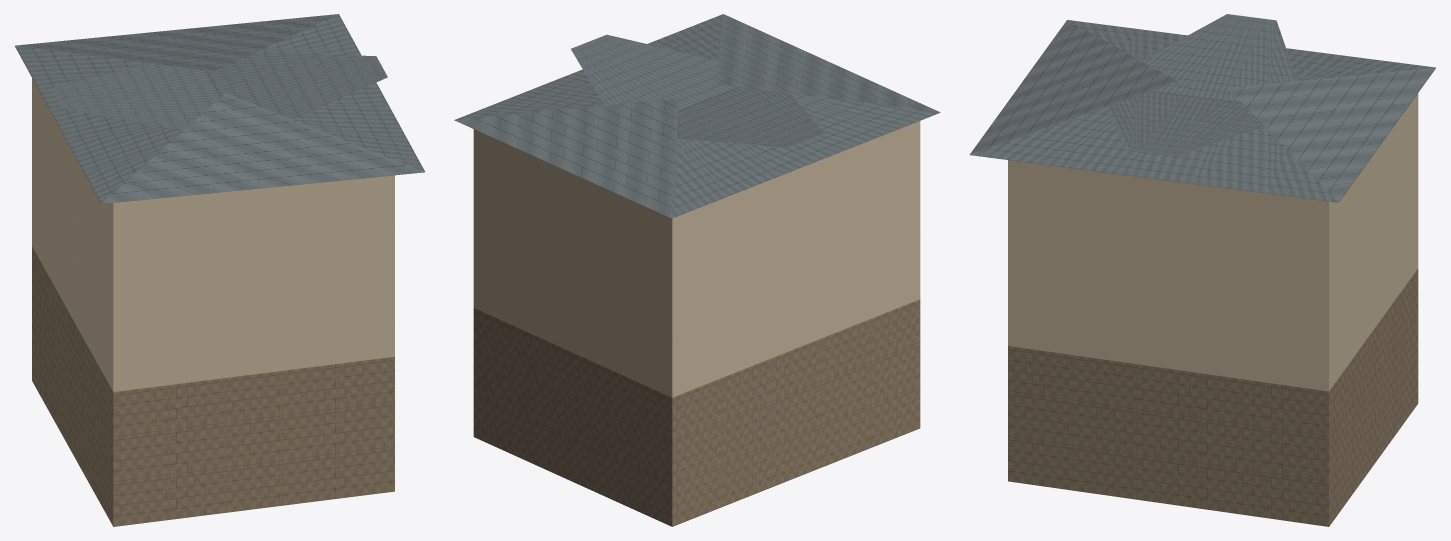
File: bld_c30_-39_472.gltf
3 views of the same model, side by side, from view 1: azimuth 30°, elevation 25°; view 2: azimuth 150°, elevation 25°; view 3: azimuth 270°, elevation 25° (orthographic). The views are drawn at different scales.
Visible parts, largest first — view 1: bld_c30_-39_472; view 2: bld_c30_-39_472; view 3: bld_c30_-39_472.
Part boxes in pixels (x1,y1,x2,y2): bld_c30_-39_472: (15, 14, 424, 526); bld_c30_-39_472: (454, 14, 940, 526); bld_c30_-39_472: (970, 14, 1435, 526).
Bounding box in the file's own units: 14.77 × 13.5 × 15.94.
3 materials, 3 textured.
